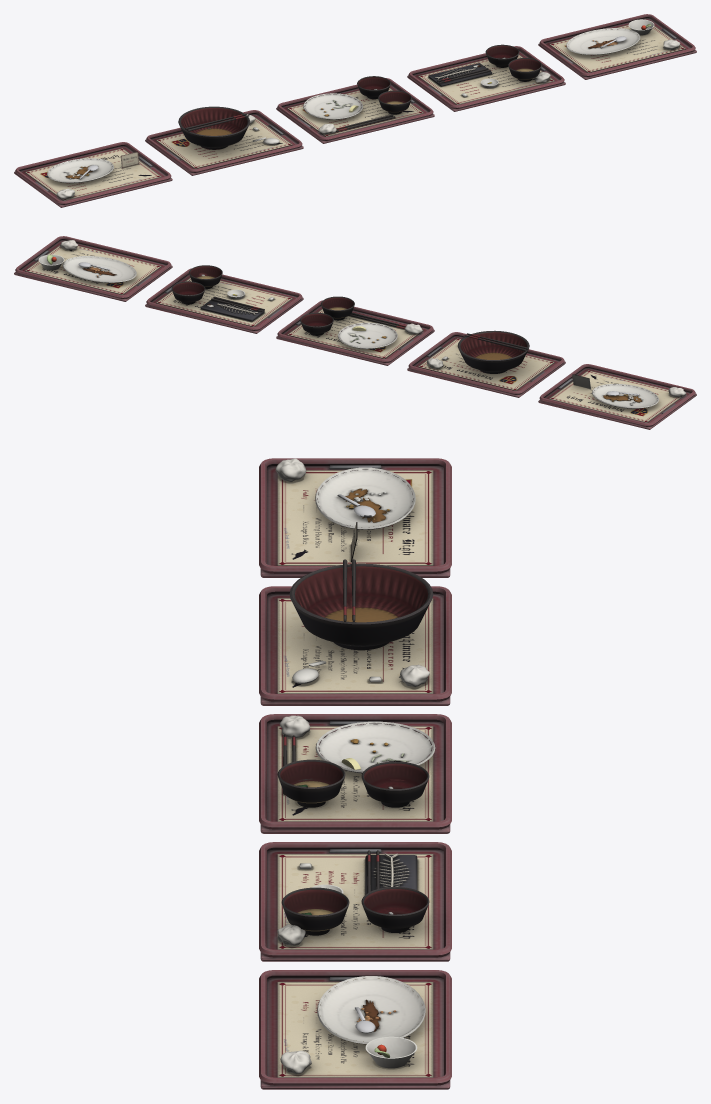
File: ConcessionLunchSets4.fbx
3 views of the same model, one above another, from view 1: azimuth 30°, elevation 25°; view 2: azimuth 150°, elevation 25°; view 3: azimuth 270°, elevation 25° (orthographic). The views are drawn at different scales.
Visible parts, largest first — view 1: ConcessionLunchSets4_ShoyuRamen, ConcessionLunchSets4_KaraageSet, ConcessionLunchSets4_MackerelSet, ConcessionLunchSets4_Omurice, ConcessionLunchSets4_KatsuCurry; view 2: ConcessionLunchSets4_ShoyuRamen, ConcessionLunchSets4_KaraageSet, ConcessionLunchSets4_MackerelSet, ConcessionLunchSets4_Omurice, ConcessionLunchSets4_KatsuCurry; view 3: ConcessionLunchSets4_ShoyuRamen, ConcessionLunchSets4_KaraageSet, ConcessionLunchSets4_MackerelSet, ConcessionLunchSets4_Omurice, ConcessionLunchSets4_KatsuCurry.
Boxes of the visible parts, bbox=[...] form: ConcessionLunchSets4_ShoyuRamen: bbox=[145, 106, 303, 175]; ConcessionLunchSets4_KaraageSet: bbox=[276, 76, 434, 143]; ConcessionLunchSets4_MackerelSet: bbox=[407, 44, 565, 111]; ConcessionLunchSets4_Omurice: bbox=[538, 14, 696, 79]; ConcessionLunchSets4_KatsuCurry: bbox=[14, 142, 172, 207]; ConcessionLunchSets4_ShoyuRamen: bbox=[407, 330, 565, 397]; ConcessionLunchSets4_KaraageSet: bbox=[276, 296, 434, 365]; ConcessionLunchSets4_MackerelSet: bbox=[145, 265, 303, 333]; ConcessionLunchSets4_Omurice: bbox=[14, 236, 172, 301]; ConcessionLunchSets4_KatsuCurry: bbox=[538, 364, 696, 429]; ConcessionLunchSets4_ShoyuRamen: bbox=[259, 559, 451, 705]; ConcessionLunchSets4_KaraageSet: bbox=[259, 714, 451, 833]; ConcessionLunchSets4_MackerelSet: bbox=[259, 842, 451, 961]; ConcessionLunchSets4_Omurice: bbox=[259, 970, 451, 1089]; ConcessionLunchSets4_KatsuCurry: bbox=[259, 458, 451, 577].
Size of the model in its own units: 738 by 30.3 by 96.58.
